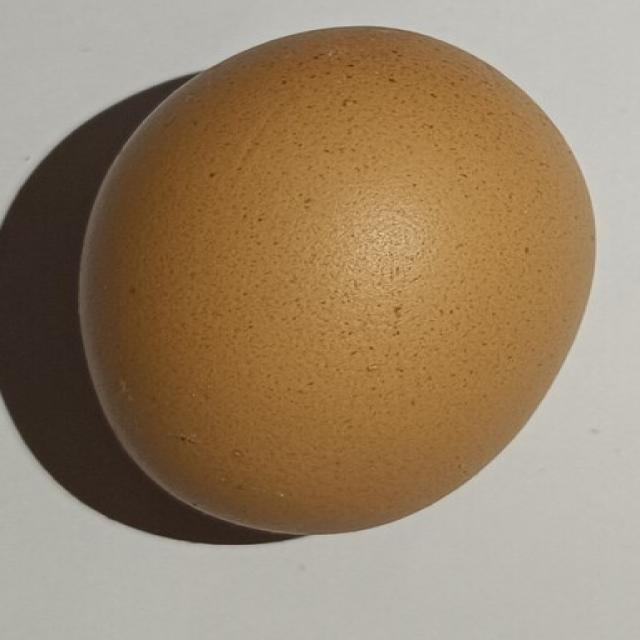fresh: (70, 16, 601, 539)
